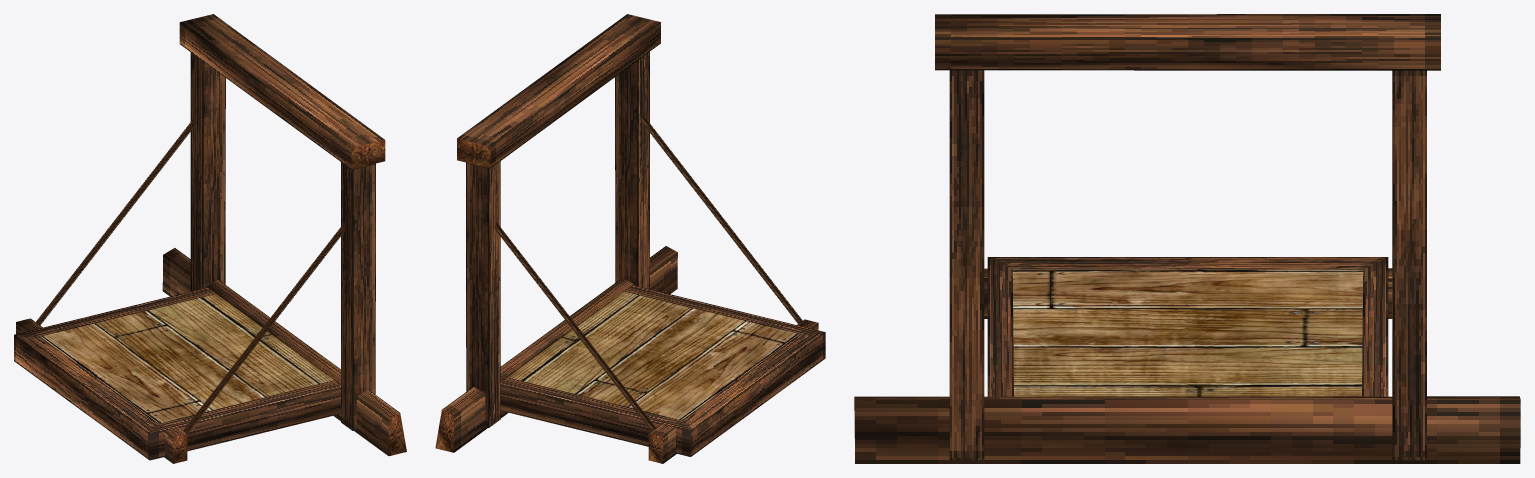
Rendered from LAKETOWN_WAREHOUSE2_PS_WH2_PLAT_74746__GX.obj.
3 renders of one model, left to right at view 1: azimuth 30°, elevation 25°; view 2: azimuth 150°, elevation 25°; view 3: azimuth 270°, elevation 25°, orthographic. The views are drawn at different scales.
Visible parts, largest first — view 1: _Plat_74746__GX; view 2: _Plat_74746__GX; view 3: _Plat_74746__GX.
Boxes of the visible parts, bbox=[...] form: _Plat_74746__GX: bbox=[14, 14, 406, 463]; _Plat_74746__GX: bbox=[435, 14, 825, 463]; _Plat_74746__GX: bbox=[854, 14, 1520, 463].
Size of the model in its own units: 185 by 237 by 333.
